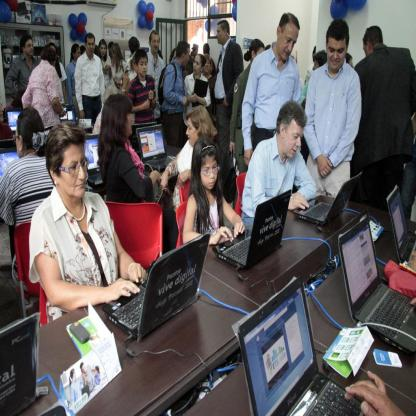board: (239, 274, 372, 416), (102, 230, 210, 340), (344, 213, 406, 352), (213, 190, 290, 268), (0, 309, 41, 416), (294, 174, 364, 222), (387, 184, 416, 275), (137, 124, 175, 173), (85, 132, 104, 187), (129, 122, 156, 155), (5, 107, 21, 133), (58, 104, 77, 125)
